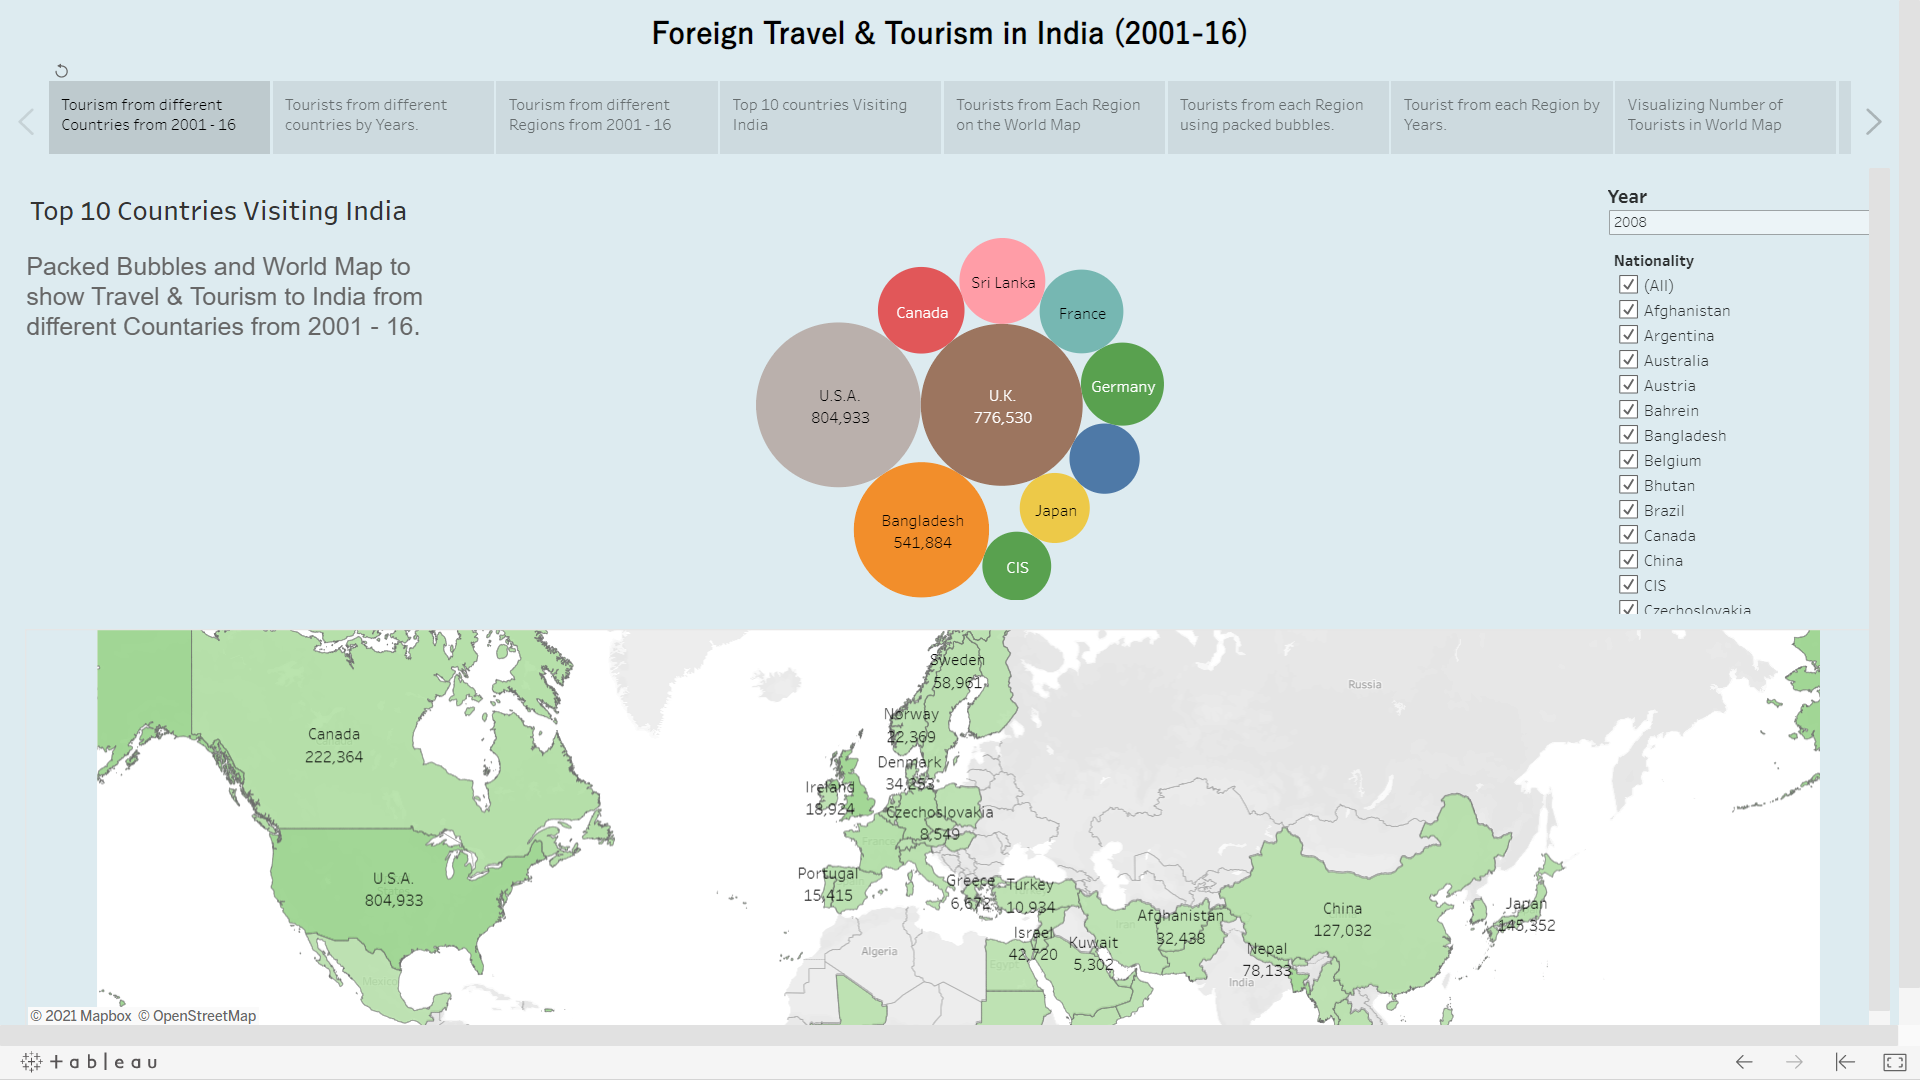

The page's visual inventory and layout, read from the dashboard file:
{"tool":"tableau","page":{"name":"By Country","canvas":[1520,700],"ordinal":0},"visuals":[{"type":"worksheet","box":[0,0,1520,700]},{"type":"worksheet","param":"vert","box":[1273.8,7.9,232.6,63]},{"type":"worksheet","param":"[Parameters].[Parameter 1]","box":[1273.8,7.9,232.6,63]},{"type":"worksheet","param":"vert","box":[8,8,1504,684]},{"type":"worksheet","param":"horz","box":[8,8,1504,684]},{"type":"worksheet","box":[8,8,1504,684]},{"type":"worksheet","title":"Top 10 Countries Visiting India","mark":"Circle","box":[8,8,1504,342]},{"type":"worksheet","title":"Visitors on Map by Country","mark":"Automatic","param":"[federated.0m8pxyp08y5cd51do6m1t1b7czdd].[none:F2:nk]","box":[1283.3,64.8,224.7,292.2]},{"type":"worksheet","box":[13.2,67,341.5,161.3]},{"type":"worksheet","title":"Visitors on Map by Country","mark":"Automatic","box":[8,350,1504,342]}]}

Visuals, with their boxes on the page's 1520x700 design canvas (x1, y1, x2, y2). These are canvas units, not pixel positions in the 1920x1080 screenshot, which may show the page scaled, cropped or inside an application window:
worksheet: {"x1": 0, "y1": 0, "x2": 1520, "y2": 700}
worksheet: {"x1": 1274, "y1": 8, "x2": 1506, "y2": 71}
worksheet: {"x1": 1274, "y1": 8, "x2": 1506, "y2": 71}
worksheet: {"x1": 8, "y1": 8, "x2": 1512, "y2": 692}
worksheet: {"x1": 8, "y1": 8, "x2": 1512, "y2": 692}
worksheet: {"x1": 8, "y1": 8, "x2": 1512, "y2": 692}
"Top 10 Countries Visiting India" worksheet (Circle marks): {"x1": 8, "y1": 8, "x2": 1512, "y2": 350}
"Visitors on Map by Country" worksheet: {"x1": 1283, "y1": 65, "x2": 1508, "y2": 357}
worksheet: {"x1": 13, "y1": 67, "x2": 355, "y2": 228}
"Visitors on Map by Country" worksheet: {"x1": 8, "y1": 350, "x2": 1512, "y2": 692}
